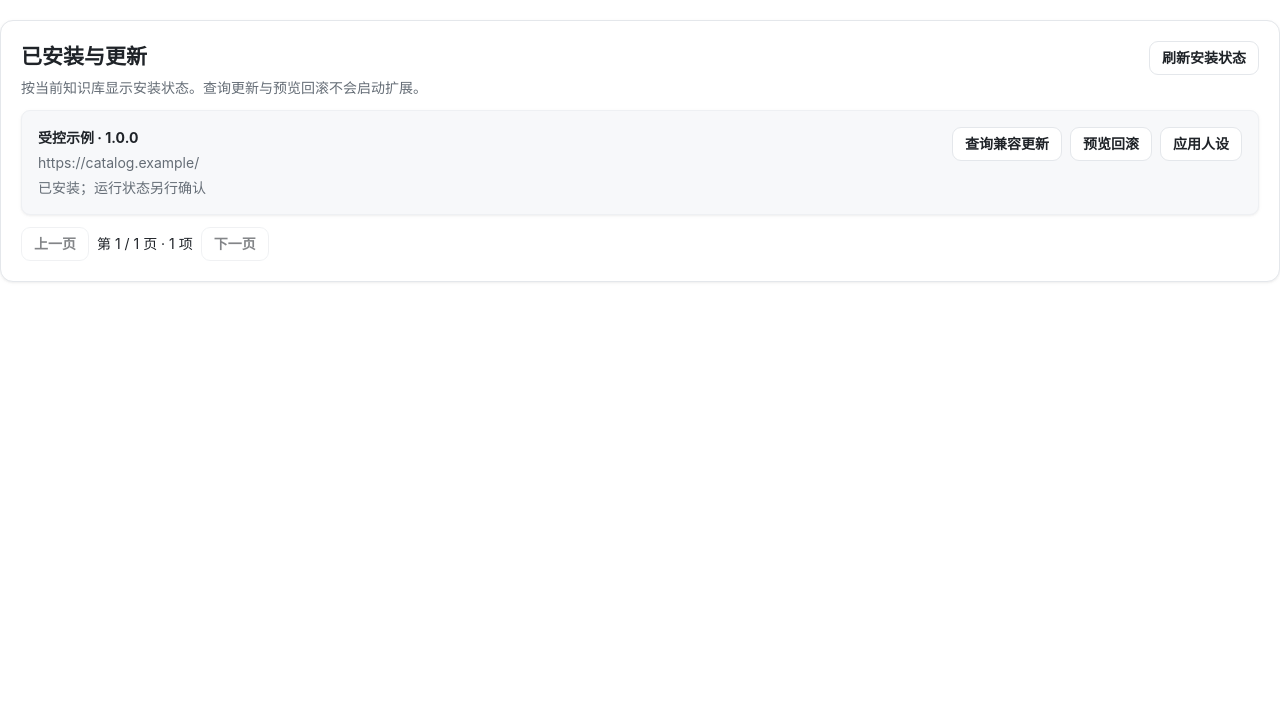
shows before/after version, changelog and permission changes without installing or enabling
Click the button "查询兼容更新" at point(1007, 144), box [952,126,1062,160]
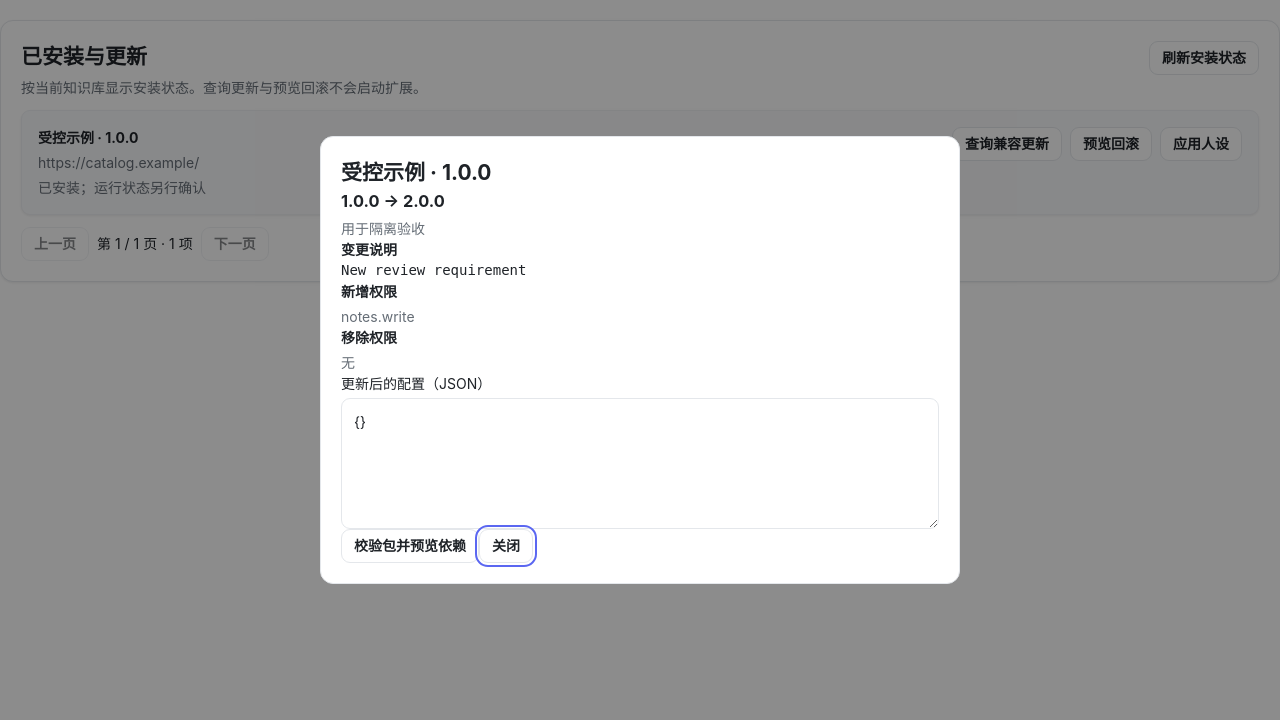
Result: the text "1.0.0 → 2.0.0" is shown at [341,191,445,211]
Result: the text "notes.write" is shown at [341,308,415,324]
Result: the text "New review requirement" is shown at [341,262,526,278]
